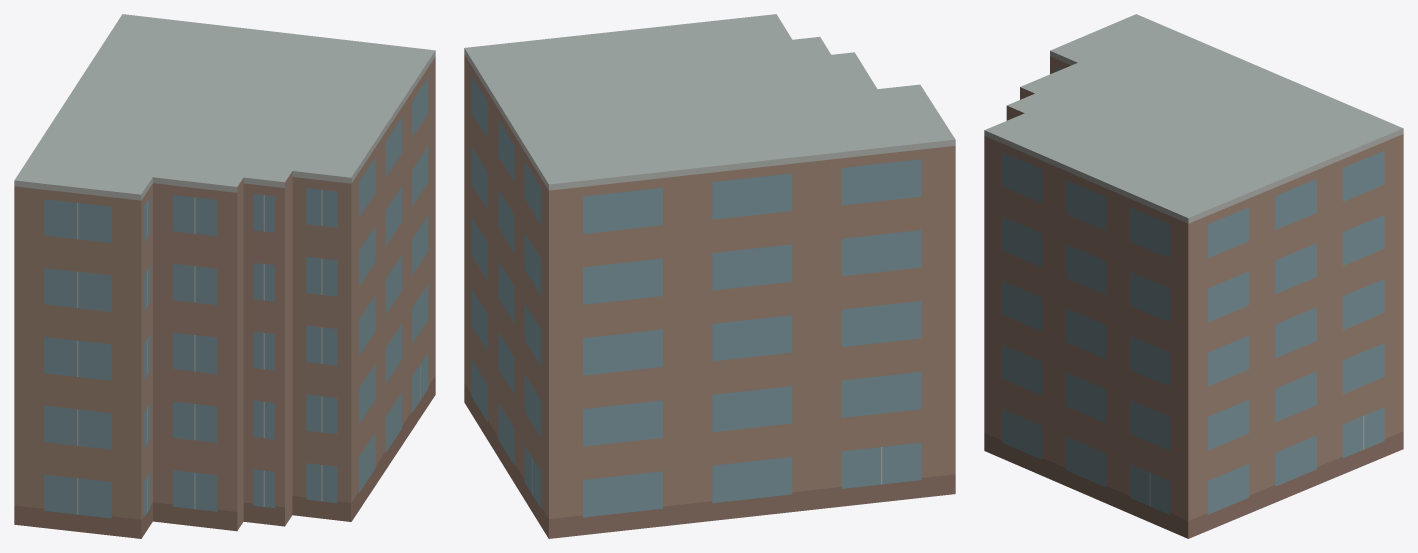
File: survey-upis-32752107.glb
3 views of the same model, side by side, from view 1: azimuth 30°, elevation 25°; view 2: azimuth 150°, elevation 25°; view 3: azimuth 270°, elevation 25° (orthographic). The views are drawn at different scales.
Parts seen in each view (by area): view 1: survey-upis-32752107.tmp; view 2: survey-upis-32752107.tmp; view 3: survey-upis-32752107.tmp.
Part boxes in pixels (<box>): survey-upis-32752107.tmp: <box>14,14,435,538</box>; survey-upis-32752107.tmp: <box>464,14,955,538</box>; survey-upis-32752107.tmp: <box>984,14,1403,538</box>.
Bounding box in the file's own units: 19.47 × 14.25 × 16.9.
